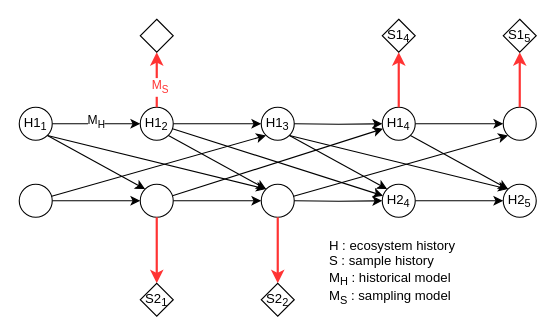
The diagram is 556 pixels wide and 336 high, and some of its shapes have lost their labels. Each missing label, with the box of its shape:
H1 5: (502, 106, 536, 140)
H2 1: (18, 183, 52, 217)
H2 2: (139, 183, 173, 217)
H2 3: (260, 183, 294, 217)
S1 2: (139, 18, 173, 52)
